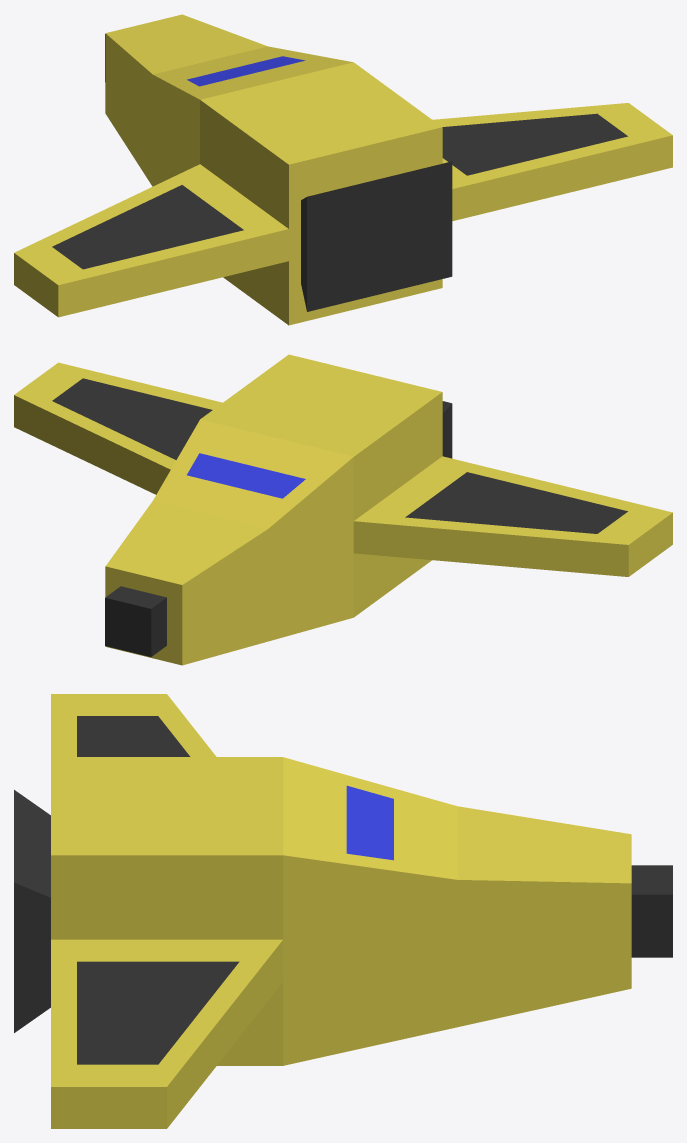
The model's file is player-vessel.fbx.
3 views of the same model, one above another, from view 1: azimuth 30°, elevation 25°; view 2: azimuth 150°, elevation 25°; view 3: azimuth 270°, elevation 25° (orthographic). The views are drawn at different scales.
Visible parts, largest first — view 1: player-vessel; view 2: player-vessel; view 3: player-vessel.
Part boxes in pixels (bbox=[...]): player-vessel: bbox=[14, 14, 672, 325]; player-vessel: bbox=[14, 354, 672, 665]; player-vessel: bbox=[14, 694, 672, 1128].
Bounding box in the file's own units: 800 × 200 × 567.
